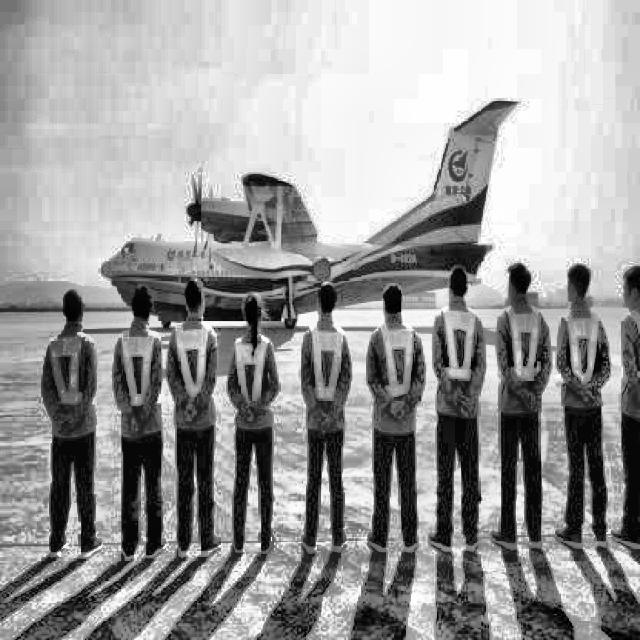AG600: (99, 98, 521, 330)
